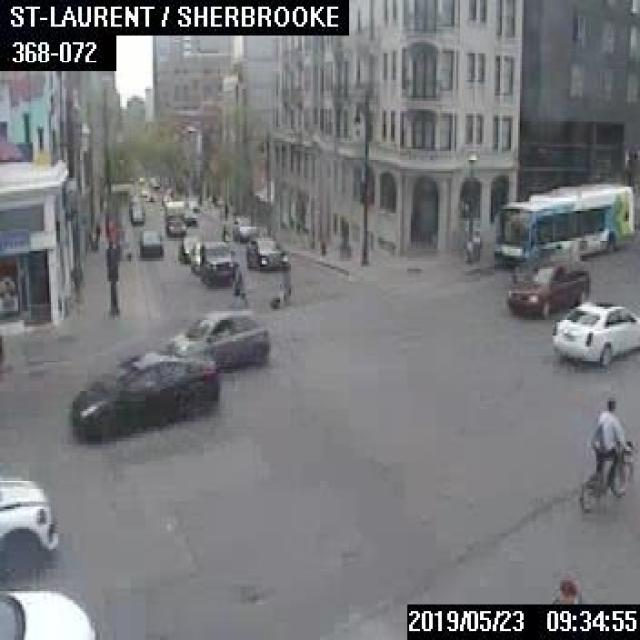bus: (491, 182, 632, 264)
cyclist: (578, 396, 634, 512)
pedestrian: (267, 255, 291, 309), (549, 576, 584, 602), (229, 258, 247, 306), (67, 254, 82, 302), (471, 227, 480, 262), (93, 218, 100, 246)
vehicle: (72, 347, 218, 442), (164, 308, 268, 368), (550, 301, 638, 364), (0, 582, 95, 638), (0, 473, 56, 568), (506, 261, 588, 318), (199, 240, 235, 282), (245, 234, 287, 268), (162, 199, 185, 234), (231, 216, 258, 240), (139, 228, 162, 256), (177, 236, 200, 260), (188, 240, 200, 271), (130, 206, 142, 224), (183, 211, 195, 224)
